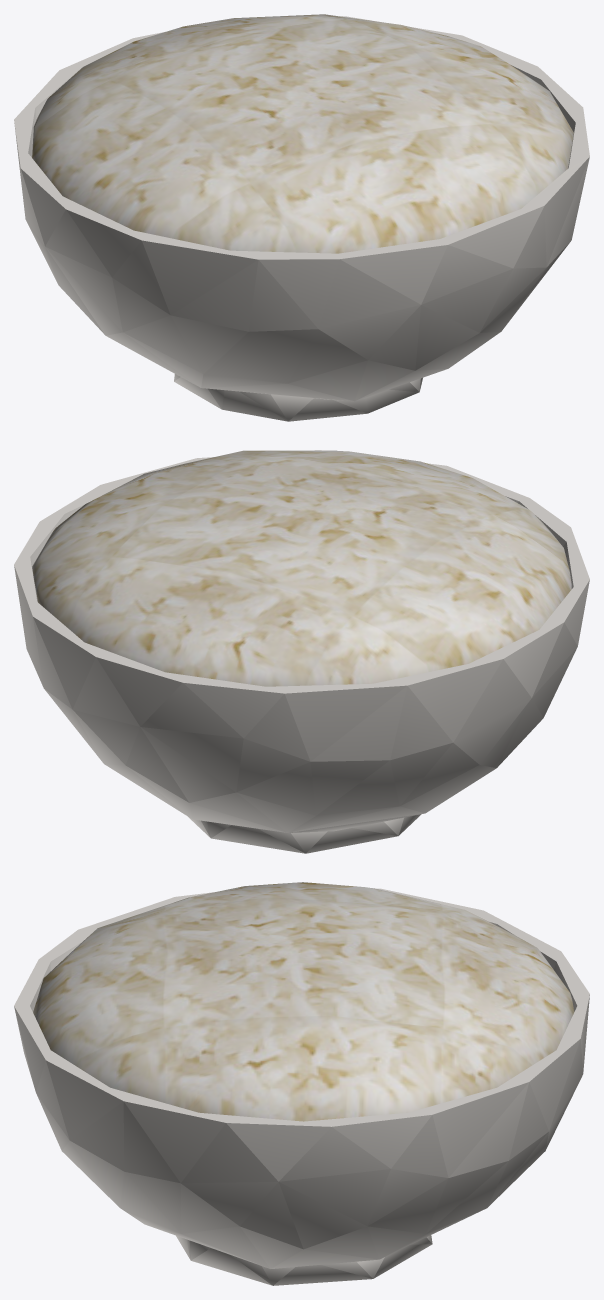
The model's file is Arroz.fbx.
3 views of the same model, one above another, from view 1: azimuth 30°, elevation 25°; view 2: azimuth 150°, elevation 25°; view 3: azimuth 270°, elevation 25° (orthographic).
Visible parts, largest first — view 1: bolDeRiz; view 2: bolDeRiz; view 3: bolDeRiz.
Boxes of the visible parts, x1,y1,x2,y2 form: bolDeRiz: (14,14,589,421); bolDeRiz: (14,450,589,853); bolDeRiz: (14,882,589,1285).
Size of the model in its own units: 92.91 by 51.01 by 93.45.
2 materials, 1 textured.
